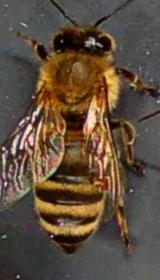varroa_mite: (96, 167, 108, 197)
